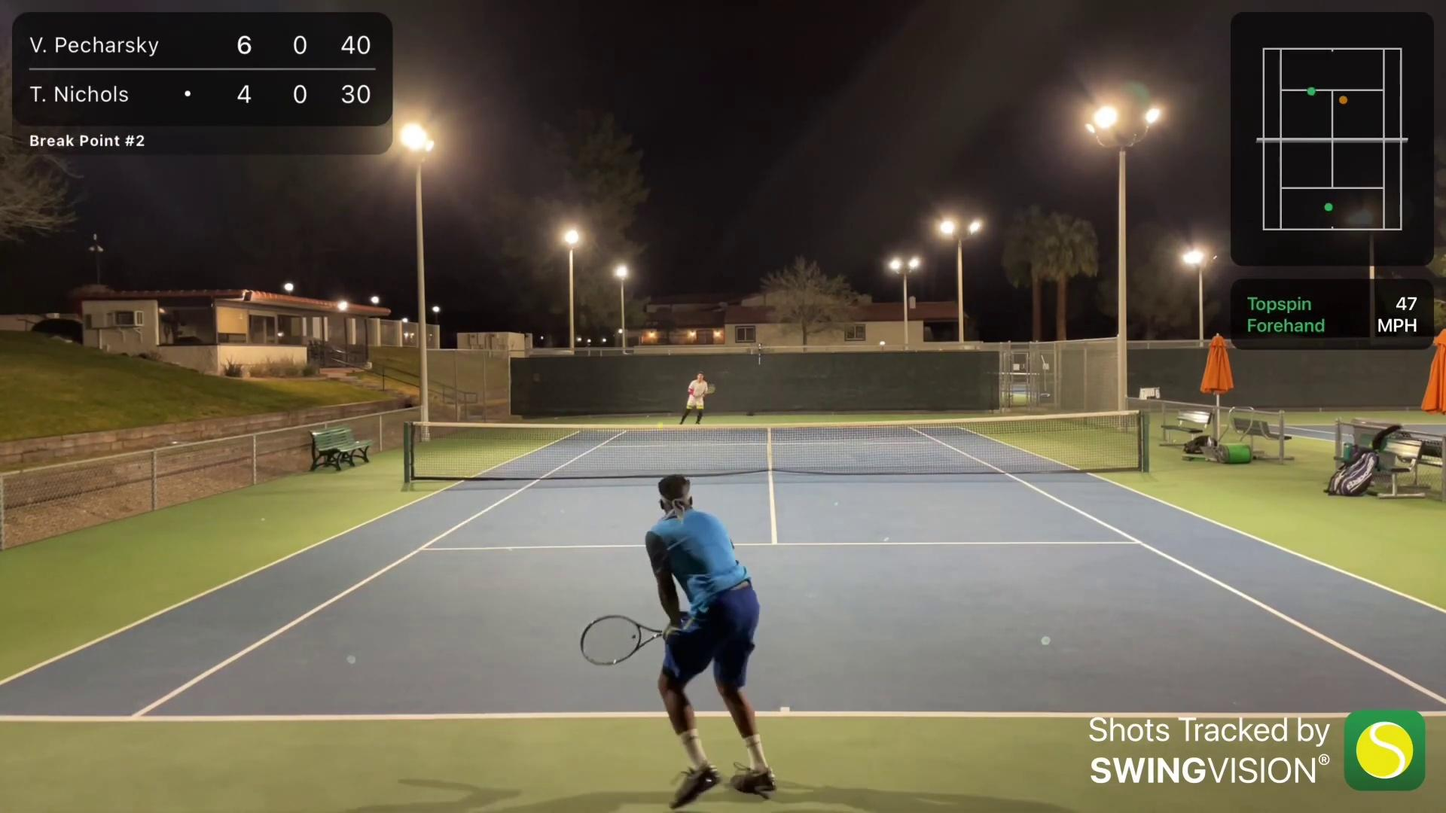ball: (655, 419, 664, 431)
